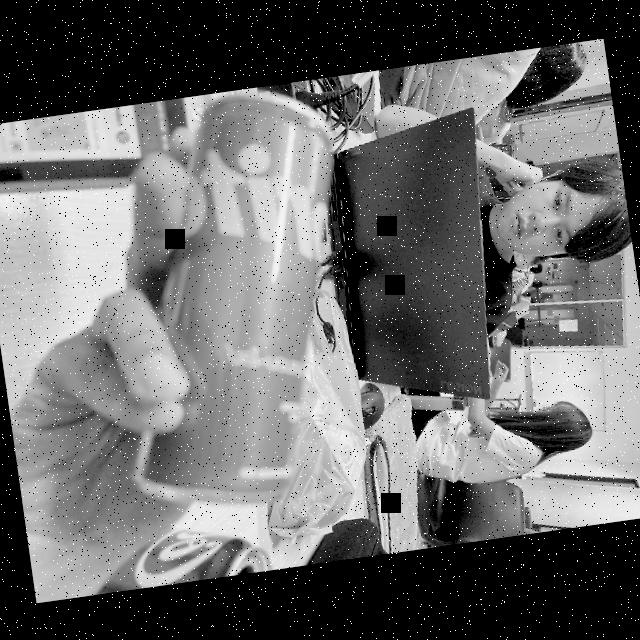can: (92, 86, 382, 519), (92, 511, 276, 593)
